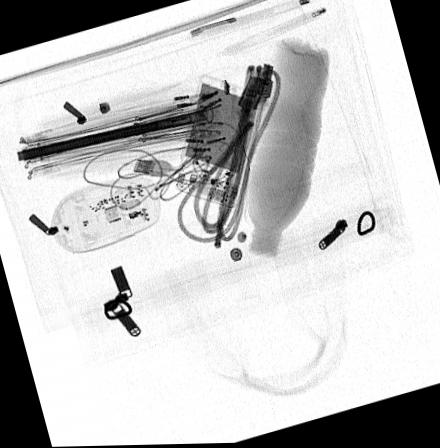Powerbank: (172, 75, 263, 211)
